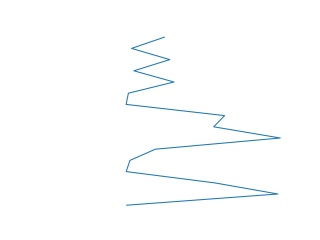majorRiverBedLagDeposit: (120, 34, 285, 210)
